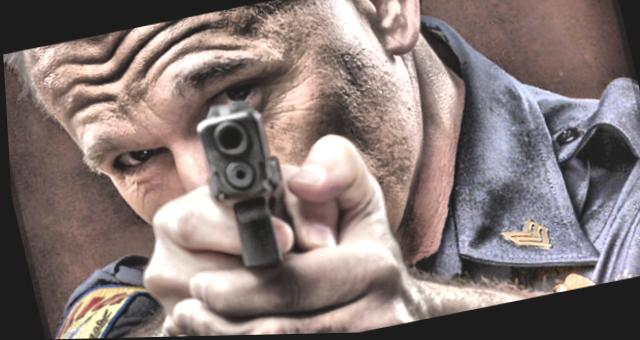pistol: (185, 94, 303, 277)
